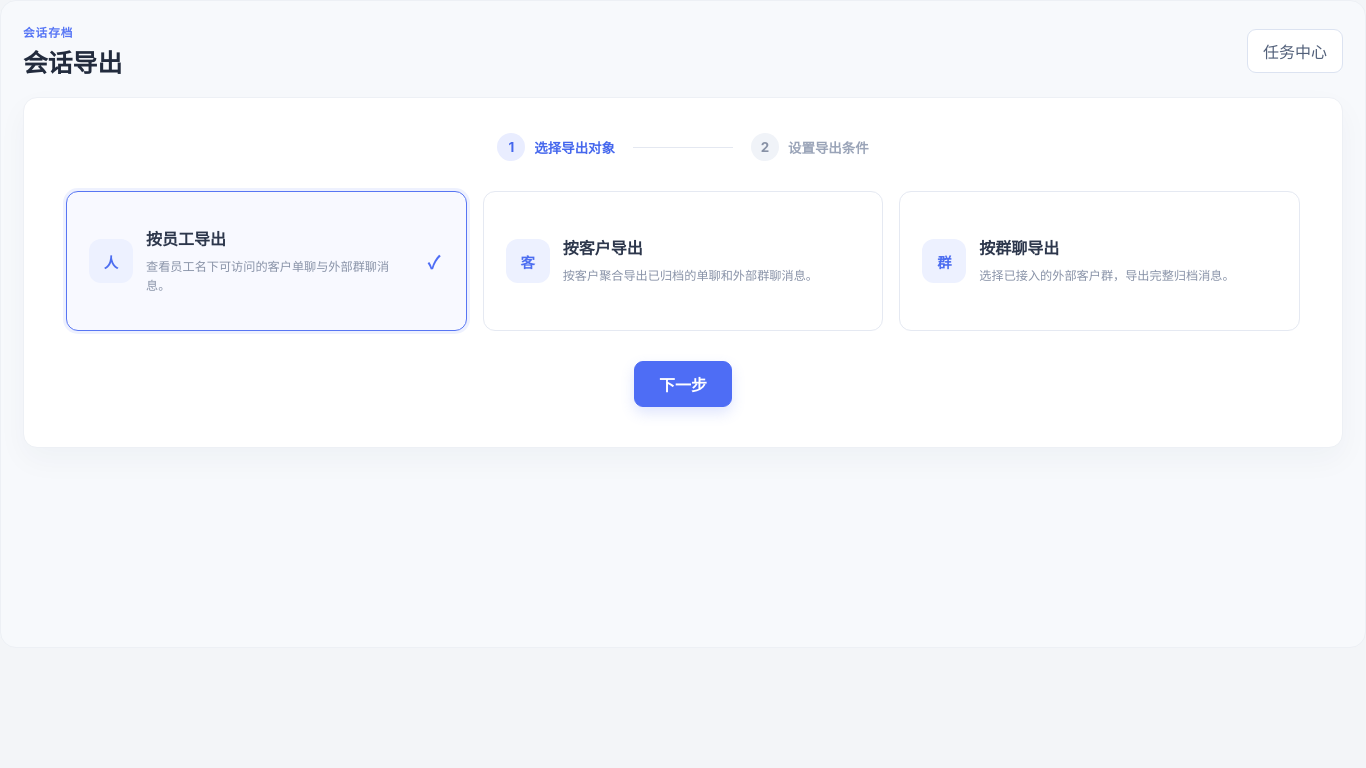
Test case: ConversationExportPage › keeps the dialog open and displays the server error inside it when task creation fails
Click the button "下一步": (683, 384) x1=634 y1=361 x2=732 y2=407
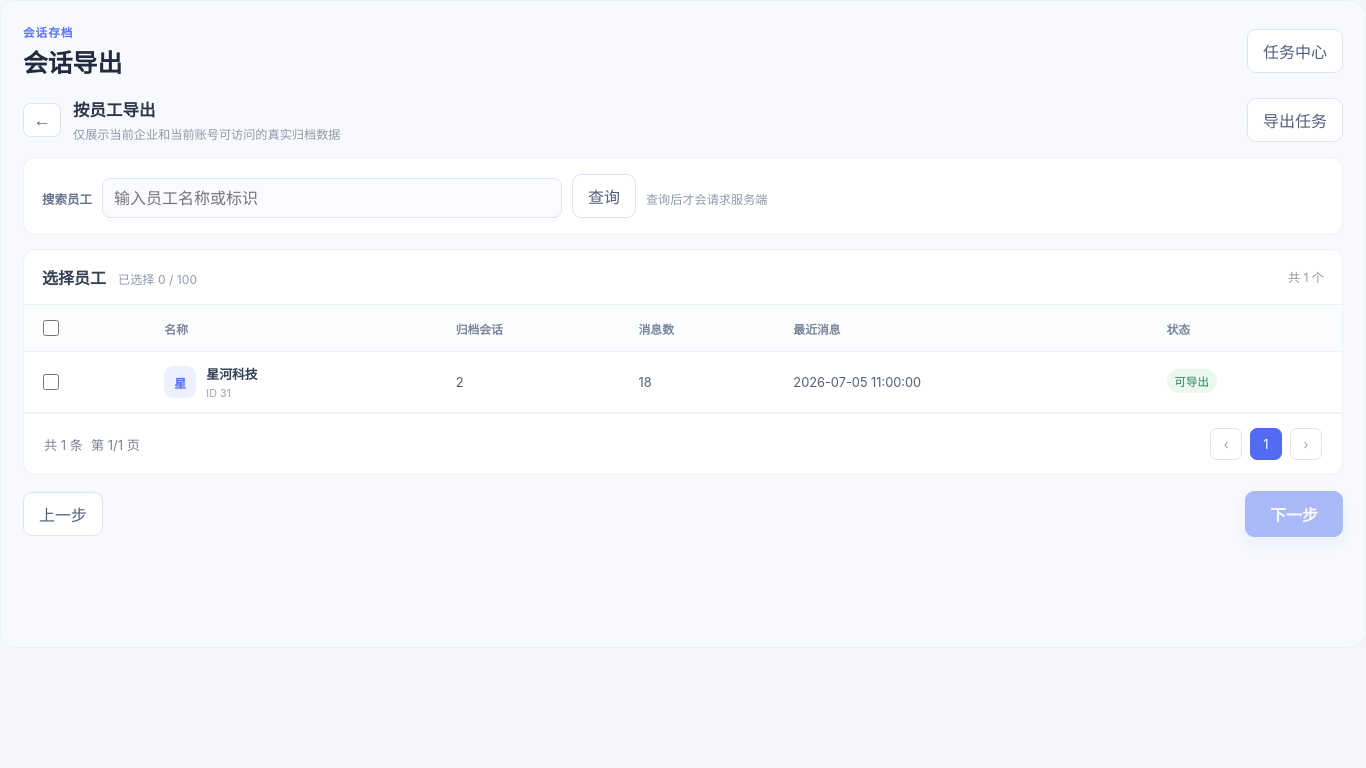
Expected: the text "星河科技" is shown, x1=206 y1=364 x2=258 y2=383
Click the 2nd checkbox: (51, 382) x1=43 y1=374 x2=59 y2=390
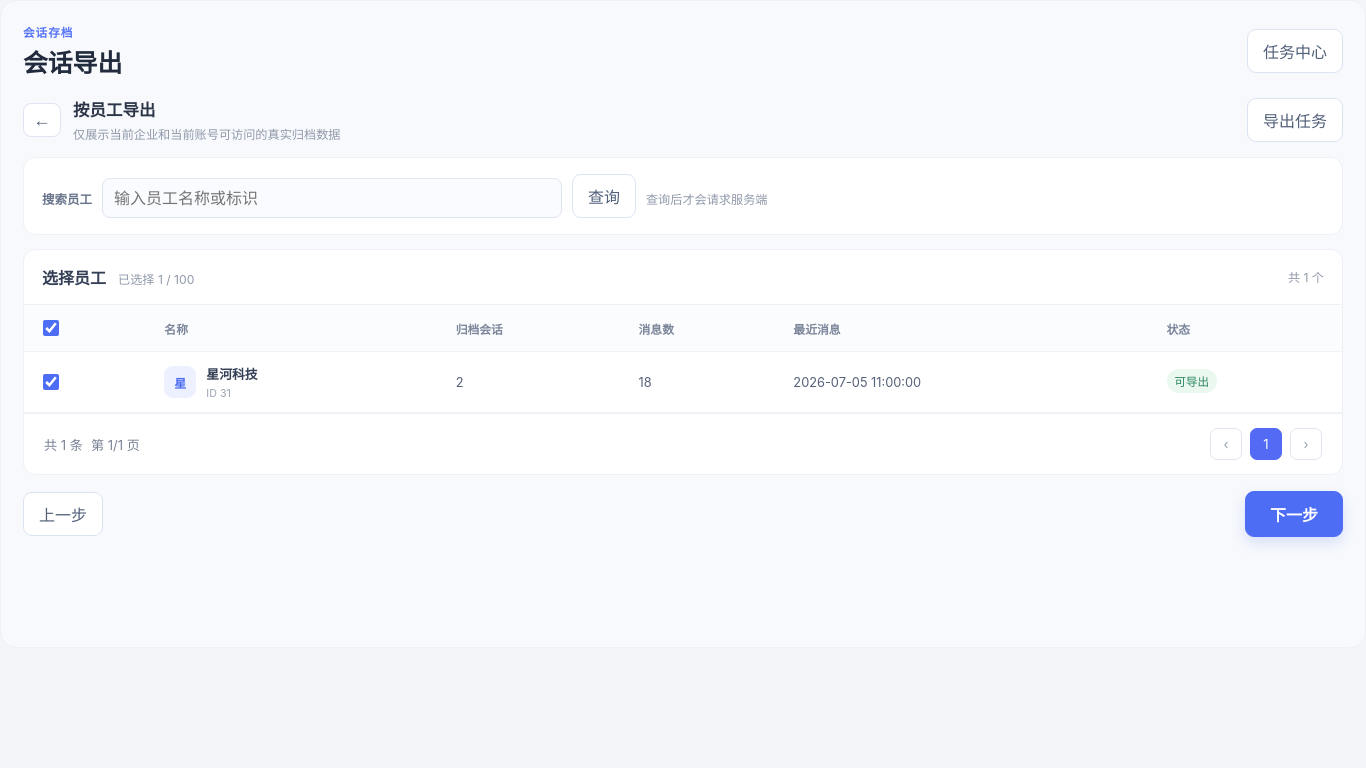
Click the button "下一步": (1294, 514) x1=1245 y1=491 x2=1343 y2=537
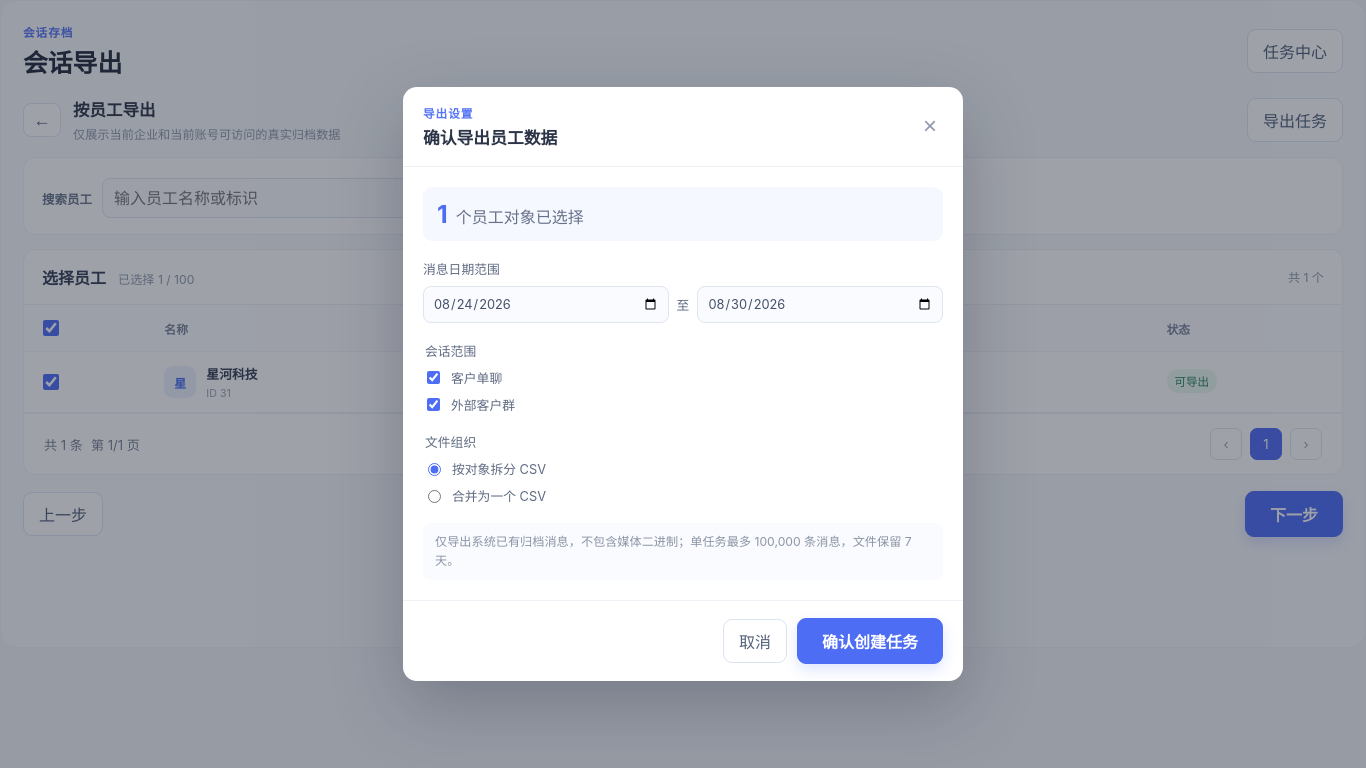
Click the button "确认创建任务": (870, 641) x1=797 y1=618 x2=943 y2=664
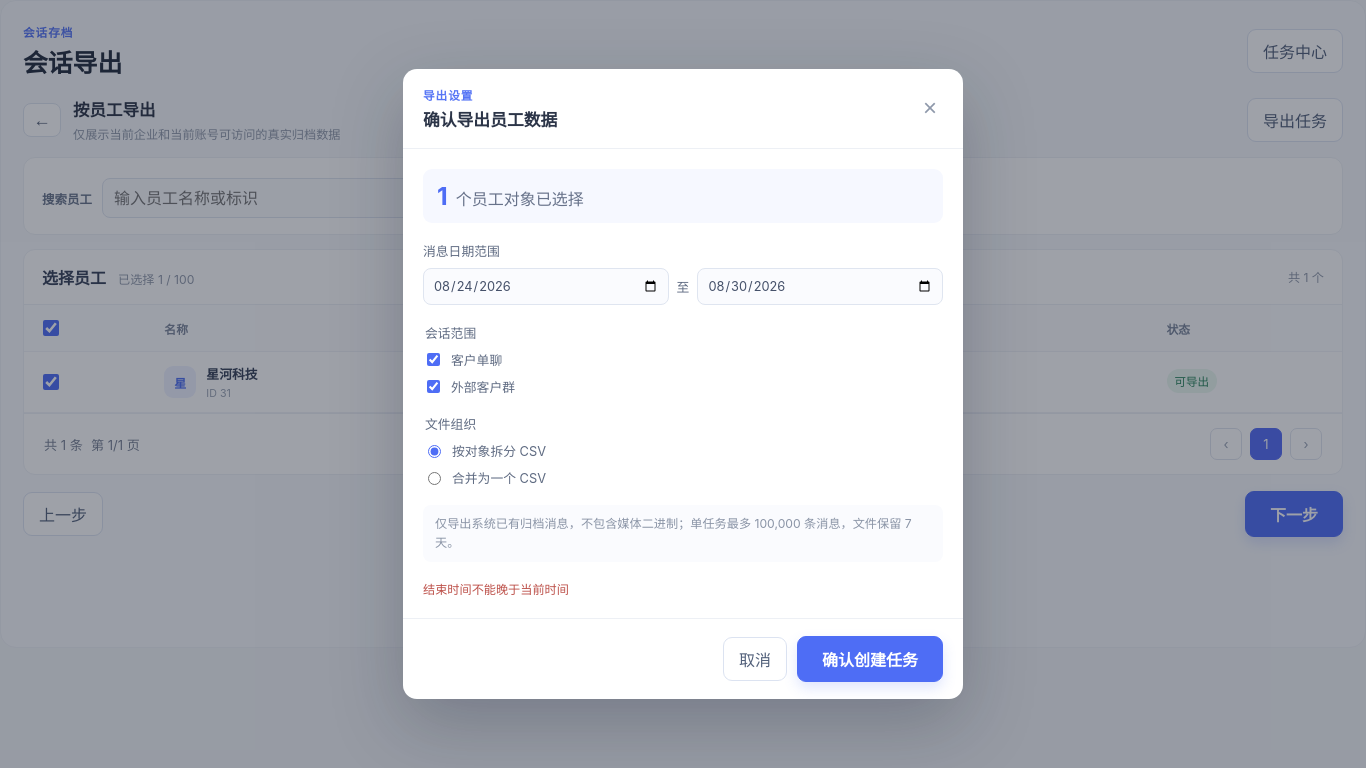
Expected: the dialog "确认导出员工数据" is shown, x1=403 y1=69 x2=963 y2=699
Expected: the message reads "结束时间不能晚于当前时间", x1=423 y1=582 x2=569 y2=597
